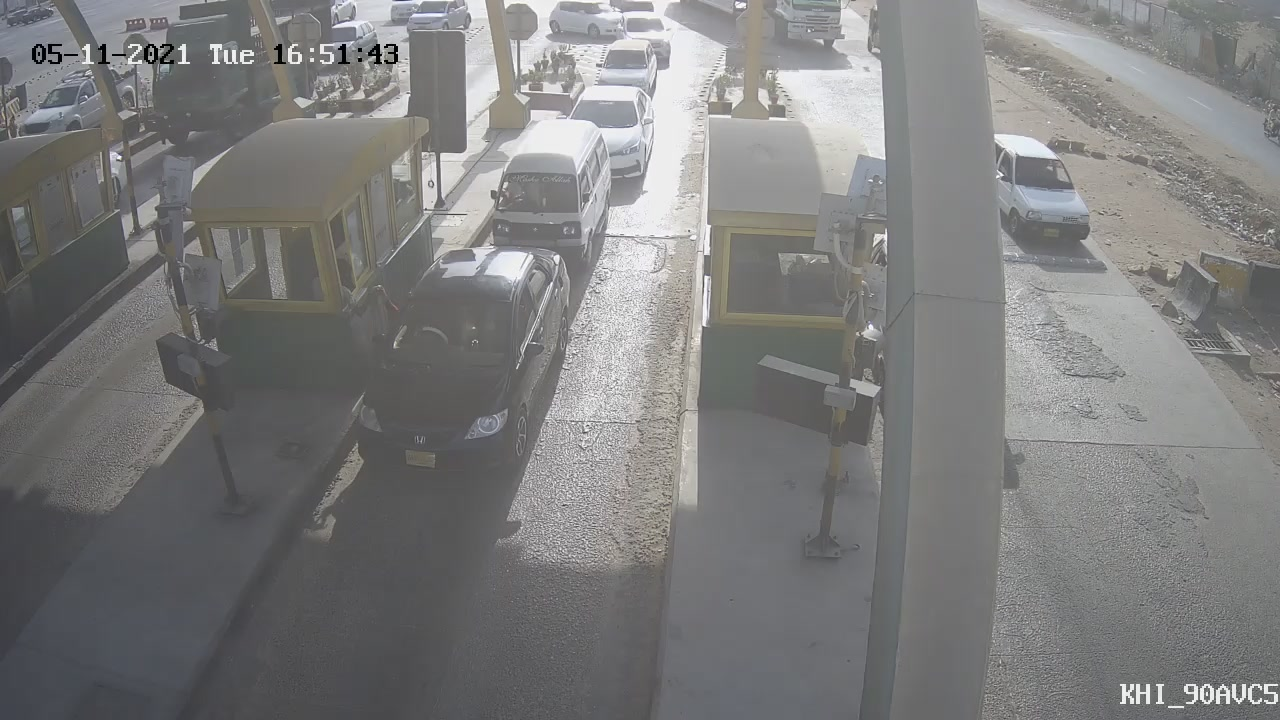F1: (324, 227, 592, 512), (464, 103, 625, 283)
